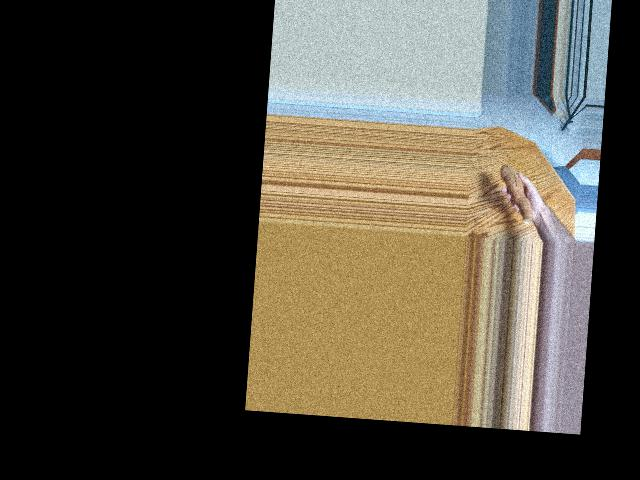sweet_potato: (496, 161, 540, 225)
